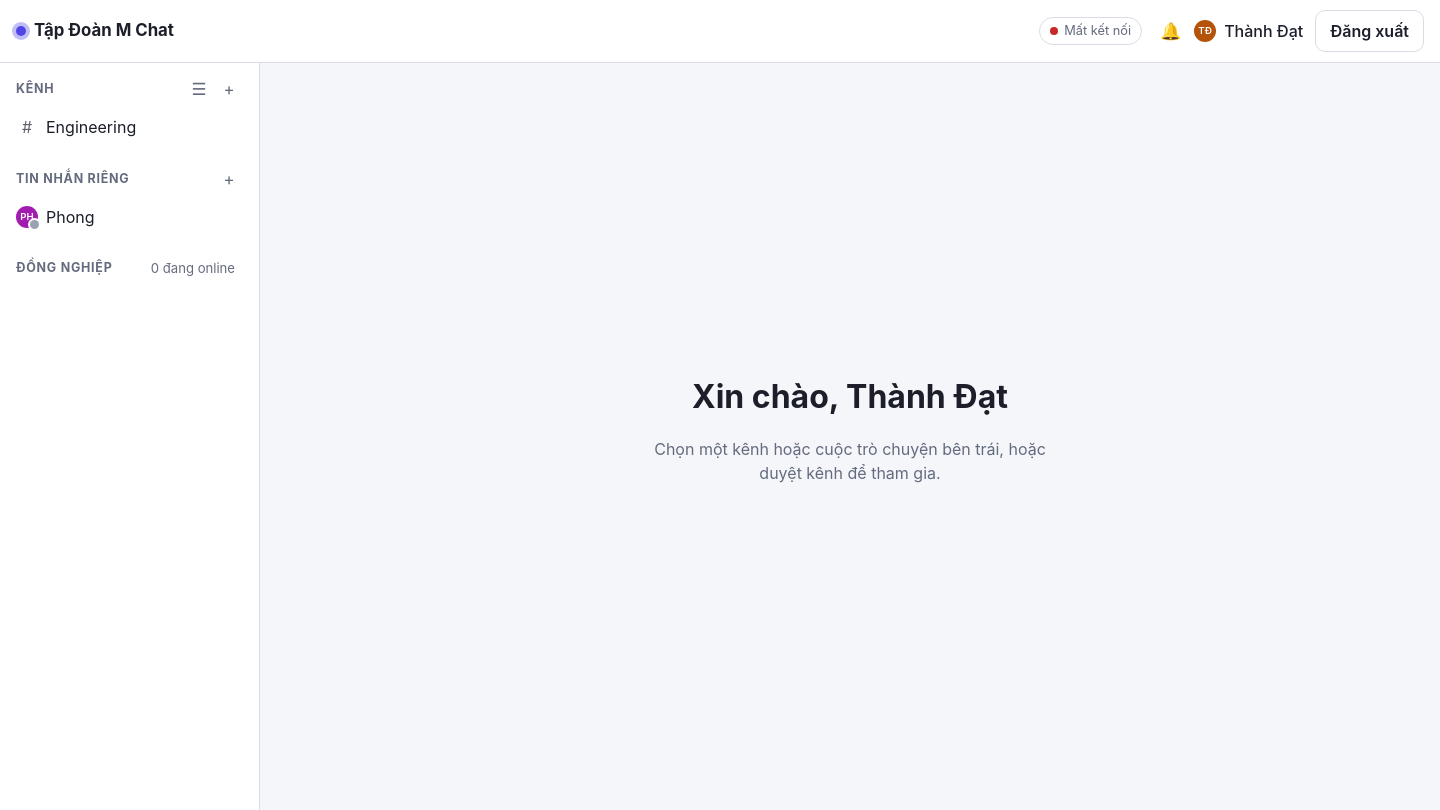
it: danh sách phòng (F03/F04) › tạo kênh: báo tên trùng, tạo được thì mở kênh mới
Click the button named "Tạo kênh".
click(229, 89)  # box x1=215 y1=75 x2=243 y2=103
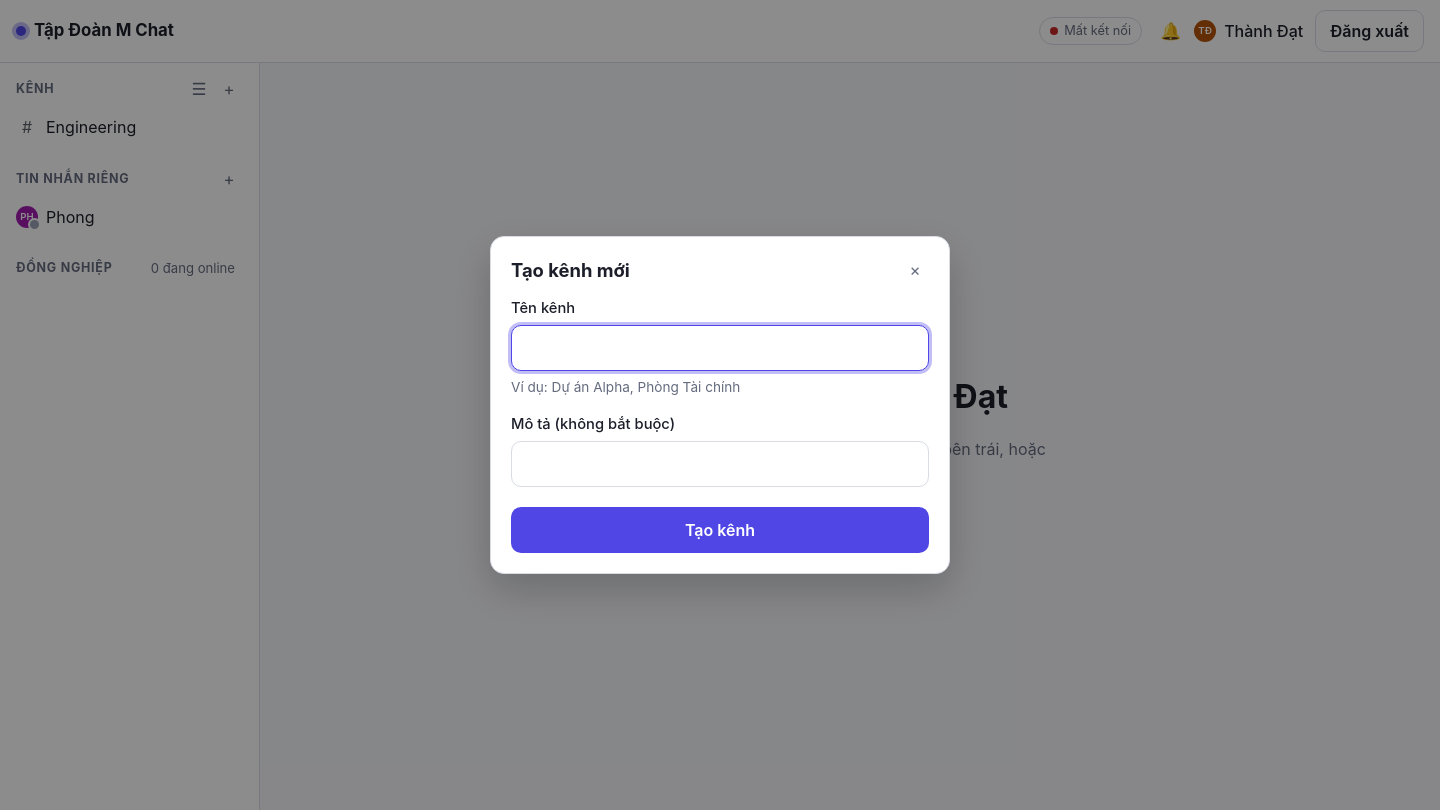
Type "Engineering" into the field labelled "Tên kênh".
click(720, 348); type("Engineering")  # box x1=511 y1=325 x2=929 y2=371
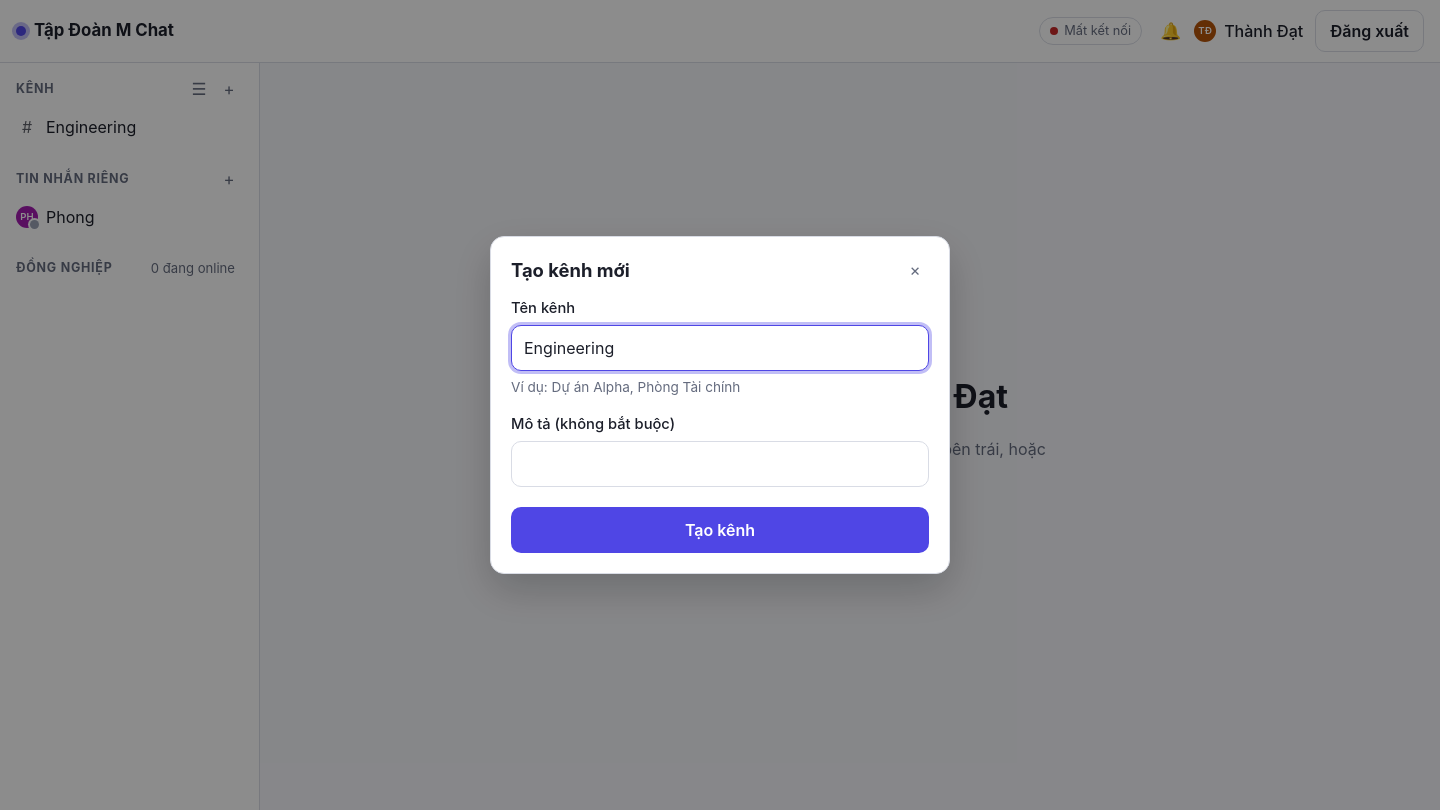
Click the button "Tạo kênh".
click(720, 530)  # box x1=511 y1=507 x2=929 y2=553
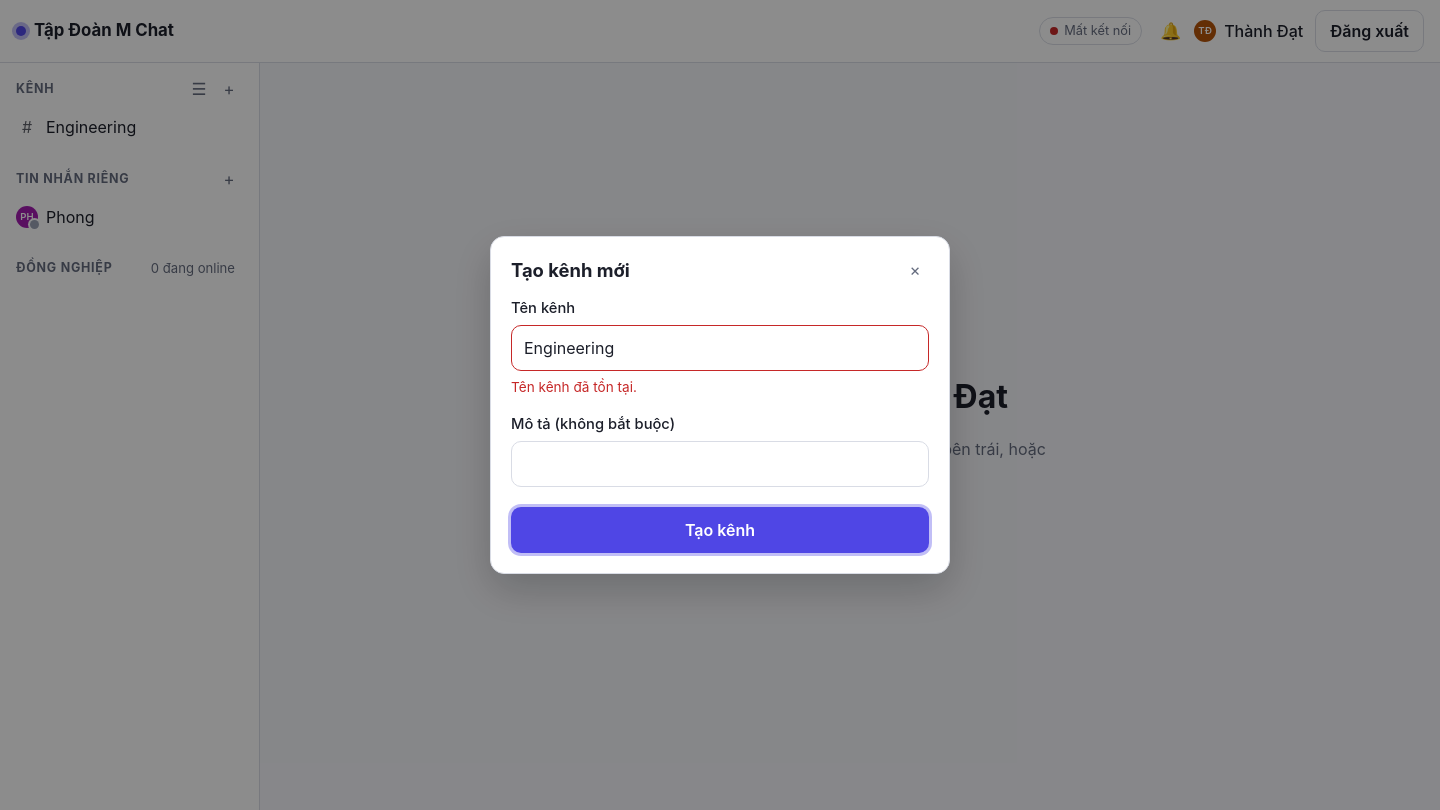
Now the text "Tên kênh đã tồn tại." is shown, box x1=511 y1=379 x2=637 y2=395
Replace the text in the field labelled "Tên kênh" with "Dự án Alpha" at (720, 348), box x1=511 y1=325 x2=929 y2=371
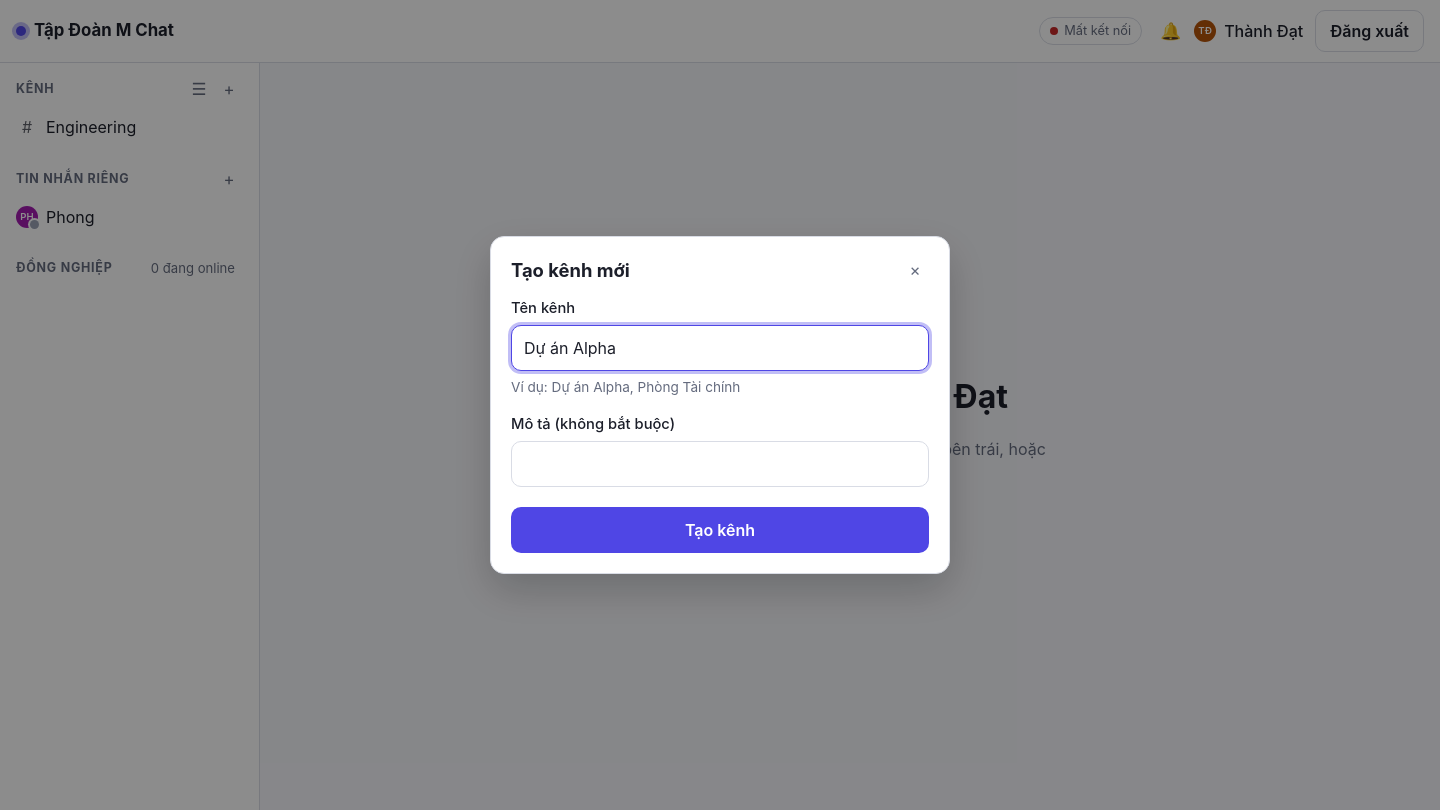
Click the button "Tạo kênh".
click(720, 530)  # box x1=511 y1=507 x2=929 y2=553
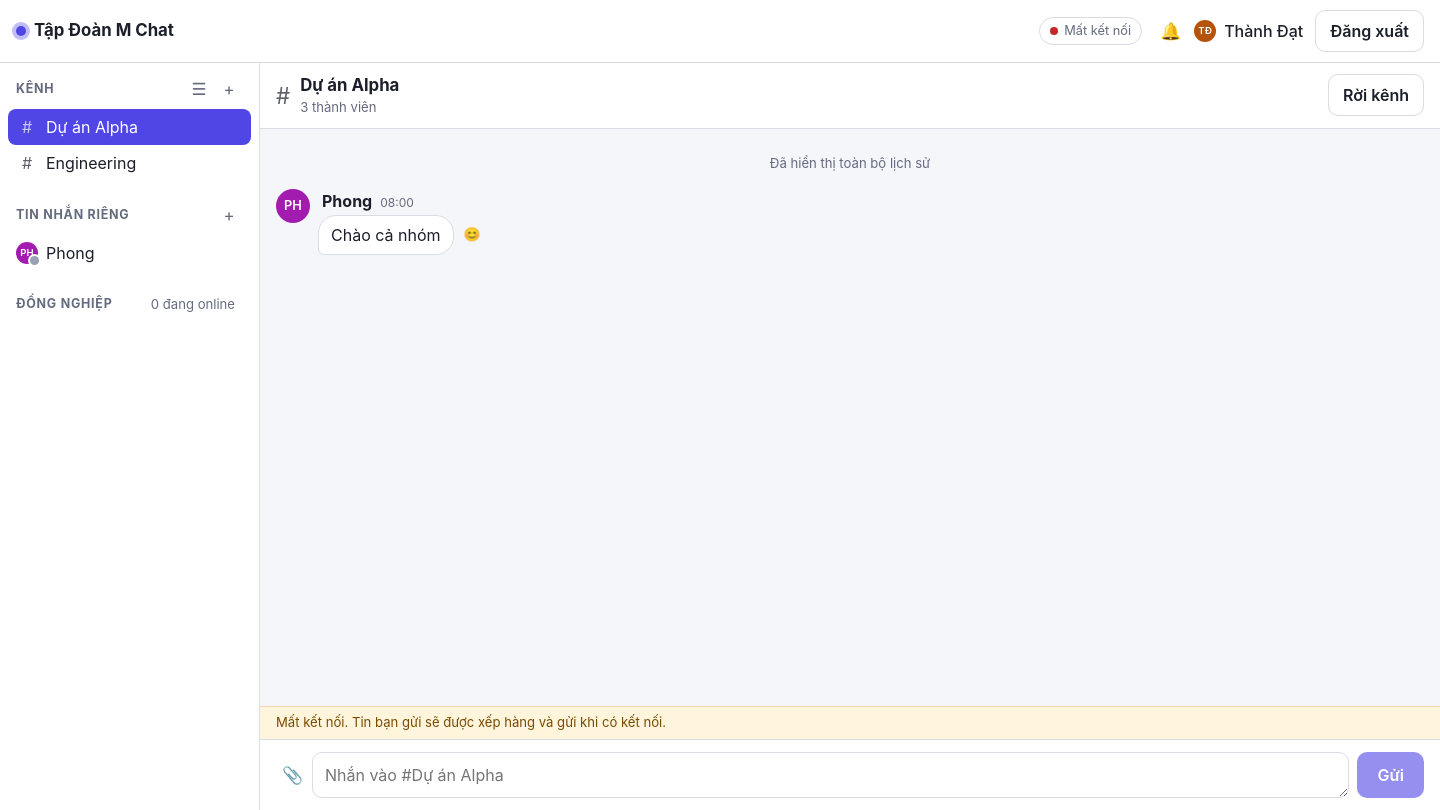
Now the heading "Dự án Alpha" is shown, box x1=300 y1=75 x2=399 y2=95
